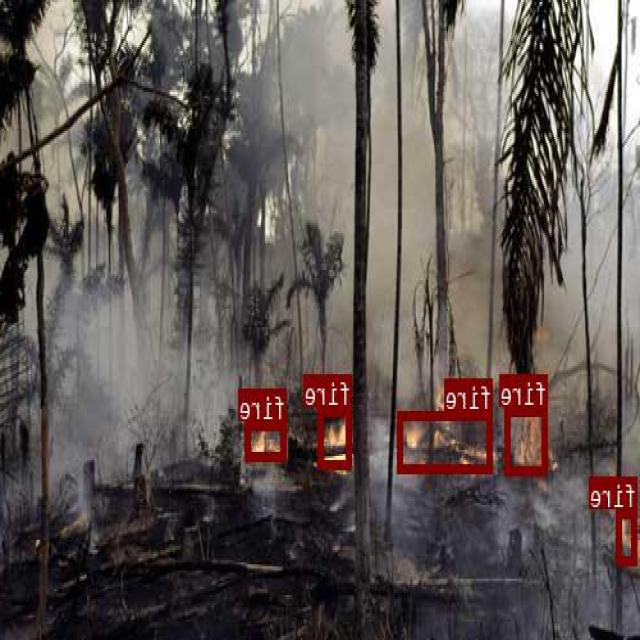fire: (399, 410, 494, 472), (506, 406, 549, 474), (319, 406, 353, 467), (246, 420, 288, 459), (617, 508, 638, 562)
